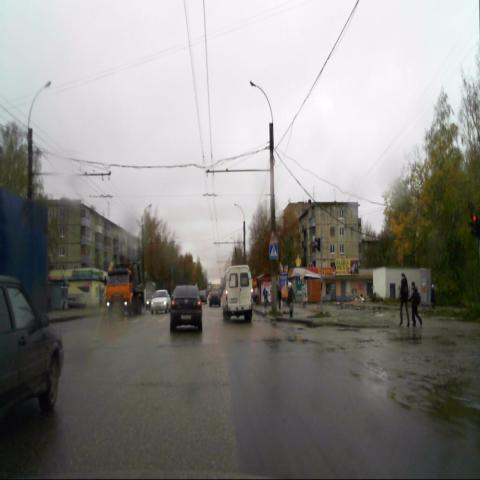1_23: (269, 230, 278, 246)
5_19_1: (270, 245, 278, 259)
